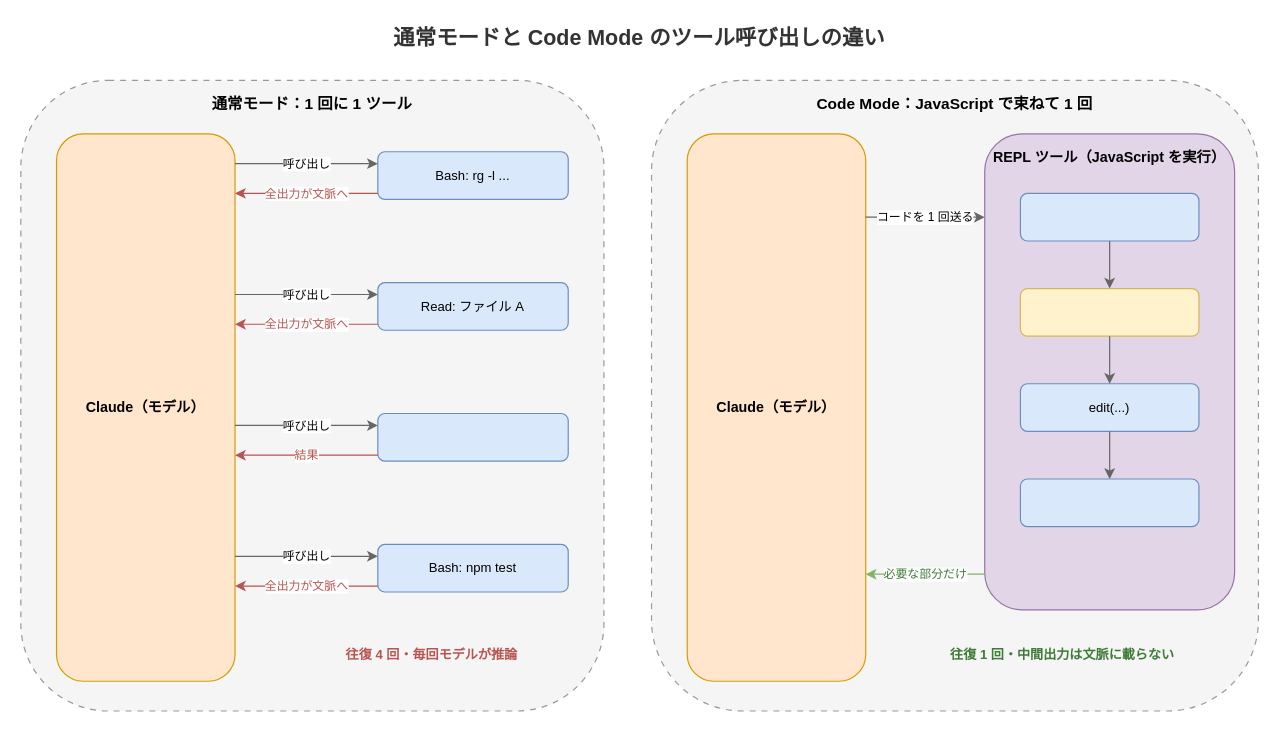
This 1279x732 diagram has some shape labels left out. The shapes that lost their labels are listed below. From the top down, each one's centre as x and y in pixels, then its label:
At pixel 1109 216: "シェル: rg -l ...".
At pixel 1109 311: "結果を加工・分岐・ループ".
At pixel 472 436: "Edit: ファイル A".
At pixel 1109 502: "シェル: npm test（並列可）".
